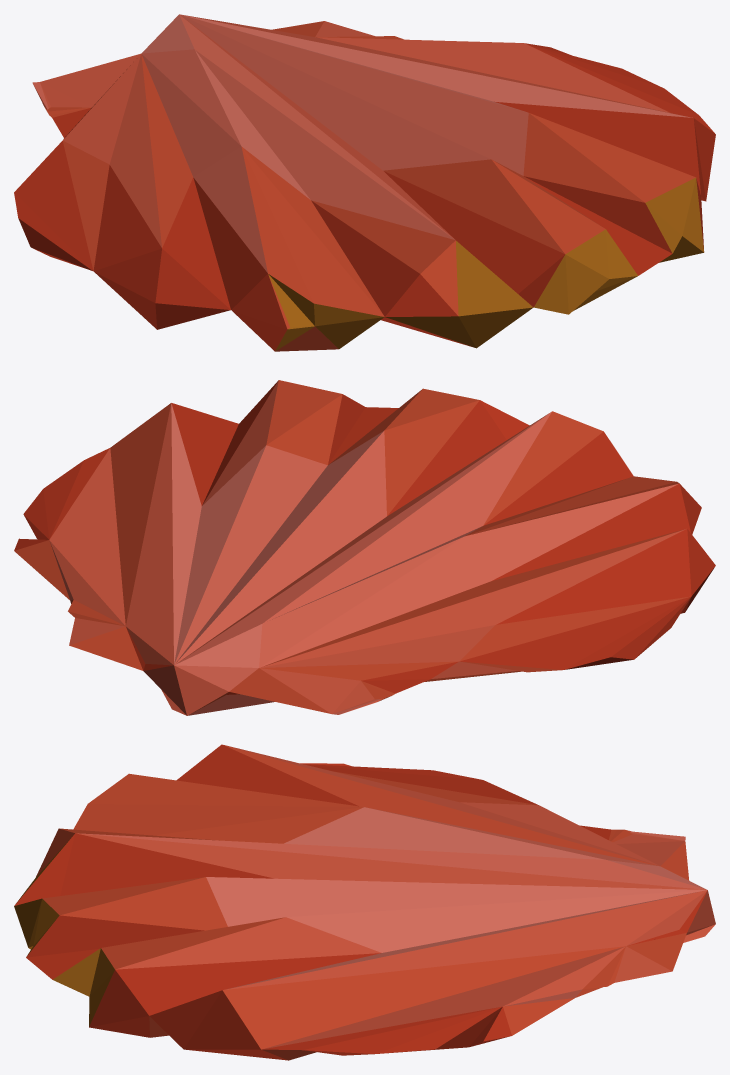
The model's file is shell-scallop.glb.
3 views of the same model, one above another, from view 1: azimuth 30°, elevation 25°; view 2: azimuth 150°, elevation 25°; view 3: azimuth 270°, elevation 25° (orthographic). The views are drawn at different scales.
Visible parts, largest first — view 1: shell-scallop; view 2: shell-scallop; view 3: shell-scallop.
Part boxes in pixels (x1,y1,x2,y2): shell-scallop: (14,14,715,351); shell-scallop: (14,380,715,715); shell-scallop: (14,744,715,1060).
Bounding box in the file's own units: 0.1561 × 0.0277 × 0.1585.
